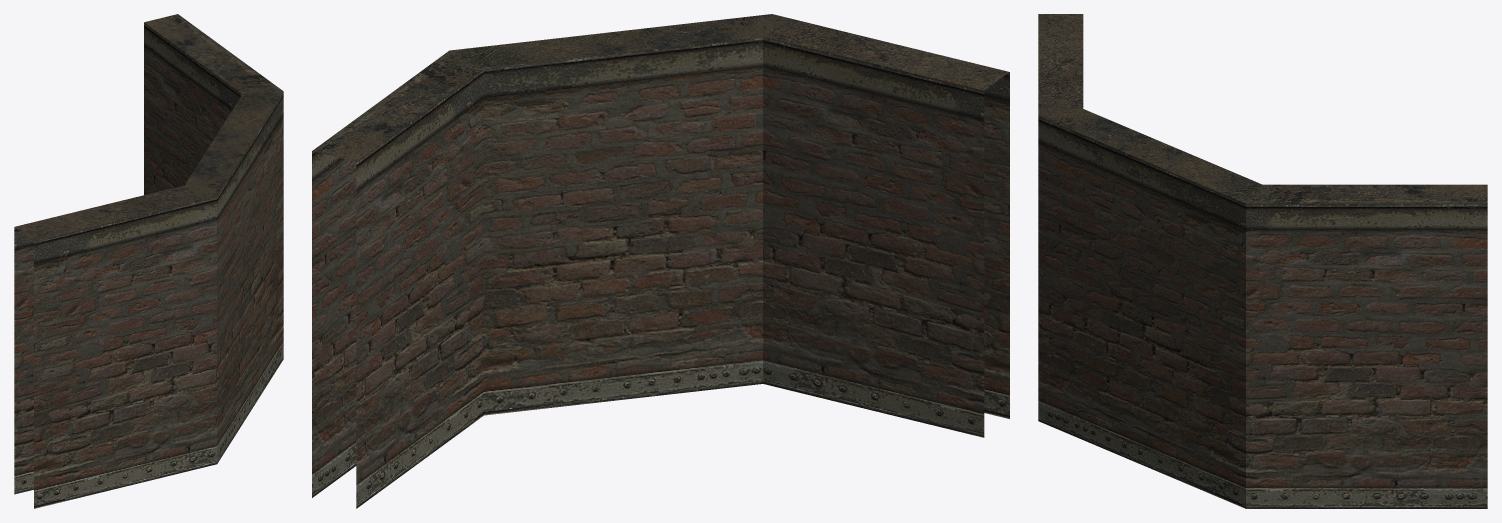
File: wall_hr_1_m2a_1.obj
The picture shows the model from 3 angles, left to right: view 1: azimuth 30°, elevation 25°; view 2: azimuth 150°, elevation 25°; view 3: azimuth 270°, elevation 25°; orthographic projection. The views are drawn at different scales.
Visible parts, largest first — view 1: wall_hr_1_m2a_1; view 2: wall_hr_1_m2a_1; view 3: wall_hr_1_m2a_1.
Part boxes in pixels (box(x1,y1,x2,y2)): wall_hr_1_m2a_1: box(14, 14, 283, 508); wall_hr_1_m2a_1: box(312, 14, 1009, 508); wall_hr_1_m2a_1: box(1038, 14, 1487, 508).
Size of the model in its own units: 4 by 3 by 4.
